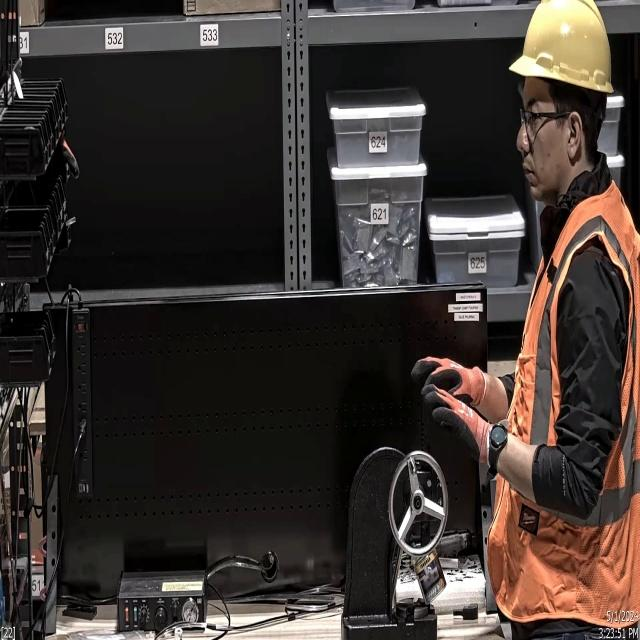construction-gloves: (422, 386, 498, 466), (410, 352, 488, 408)
